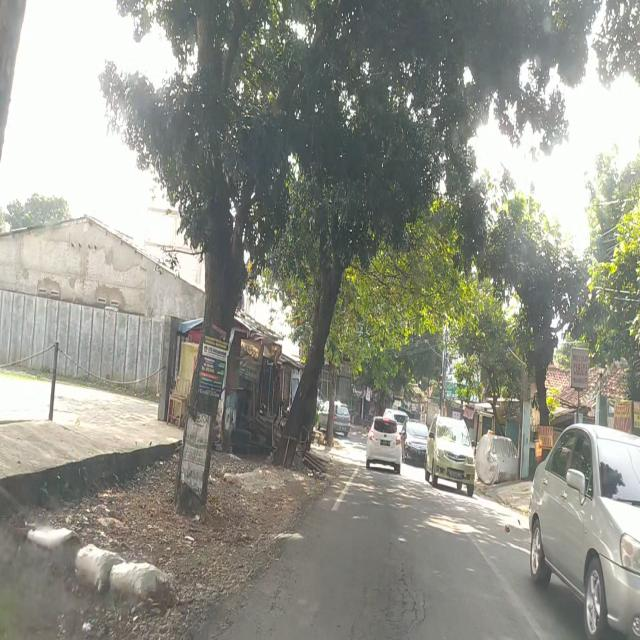Drain Hole: (366, 540, 429, 636)
